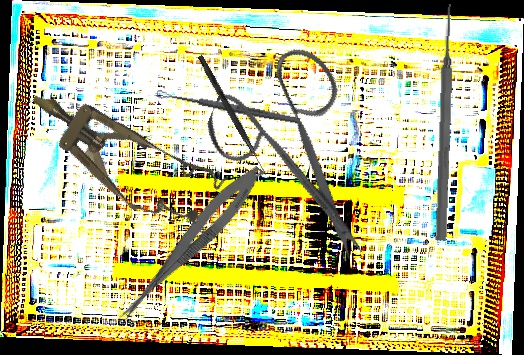Hook Surgical: (195, 54, 271, 177)
Iris Scissors: (179, 25, 424, 266)
Micro Scissor: (110, 157, 270, 335)
Pusher: (433, 3, 458, 241)
Speculum: (12, 64, 229, 244)
Surgical Spoon: (155, 88, 302, 126)
